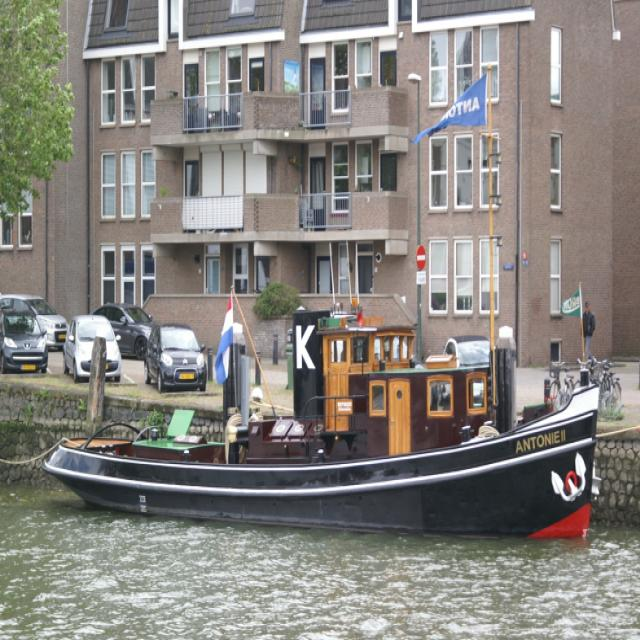tugboat: (38, 294, 597, 554)
